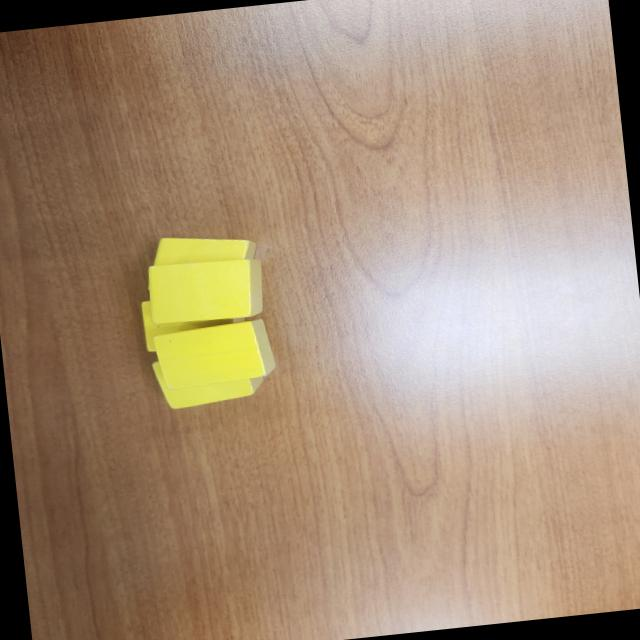yellow: (150, 316, 280, 391), (142, 254, 268, 328), (148, 348, 268, 412), (137, 290, 252, 353), (142, 227, 260, 270)
